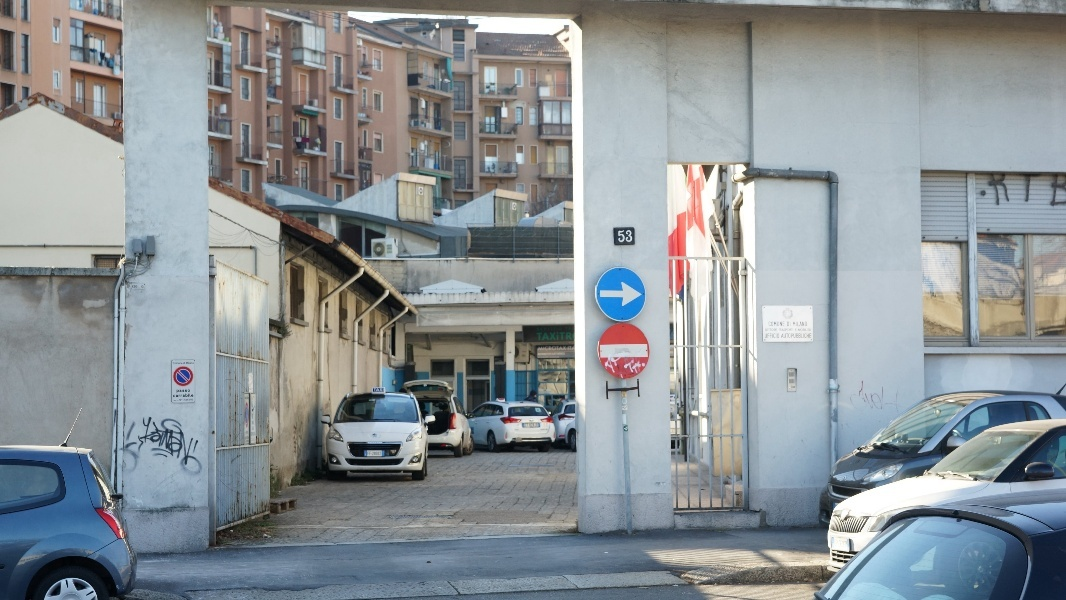text: (129, 412, 144, 477), (145, 412, 160, 477), (161, 412, 176, 477), (177, 412, 192, 477), (193, 412, 206, 477), (993, 173, 1008, 209), (849, 381, 864, 414), (865, 381, 880, 414), (881, 381, 896, 414), (1009, 173, 1017, 209), (1025, 174, 1033, 204), (987, 173, 992, 209), (545, 332, 560, 342), (897, 381, 901, 414), (625, 230, 634, 244), (561, 332, 573, 342), (616, 230, 624, 244), (545, 352, 560, 359), (770, 321, 784, 328), (785, 333, 800, 339), (177, 393, 192, 399), (545, 326, 560, 332), (561, 326, 574, 332), (545, 346, 560, 351), (177, 389, 191, 394), (537, 332, 544, 342), (769, 333, 780, 339), (801, 333, 812, 339), (787, 321, 800, 326), (561, 346, 574, 351), (785, 328, 800, 332), (177, 398, 192, 402), (793, 321, 800, 327), (801, 321, 808, 327), (537, 326, 544, 332), (538, 352, 544, 359), (801, 328, 811, 332), (769, 328, 778, 332), (537, 346, 544, 351), (561, 352, 566, 359), (1023, 174, 1024, 204), (183, 362, 192, 365), (764, 333, 768, 339), (779, 328, 784, 332), (173, 393, 176, 399), (177, 362, 183, 365), (187, 362, 192, 365), (765, 328, 768, 332), (782, 333, 784, 339), (173, 398, 176, 402), (173, 362, 176, 365), (785, 321, 786, 328), (193, 393, 194, 399), (193, 362, 195, 365), (193, 398, 194, 402)
